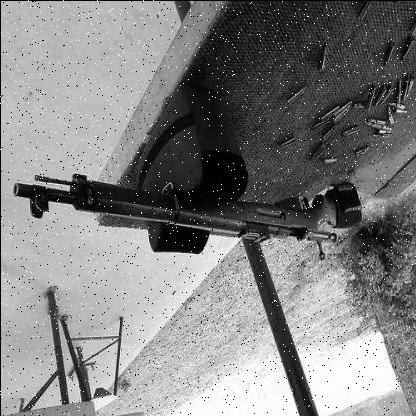rifle: (4, 145, 365, 264)
